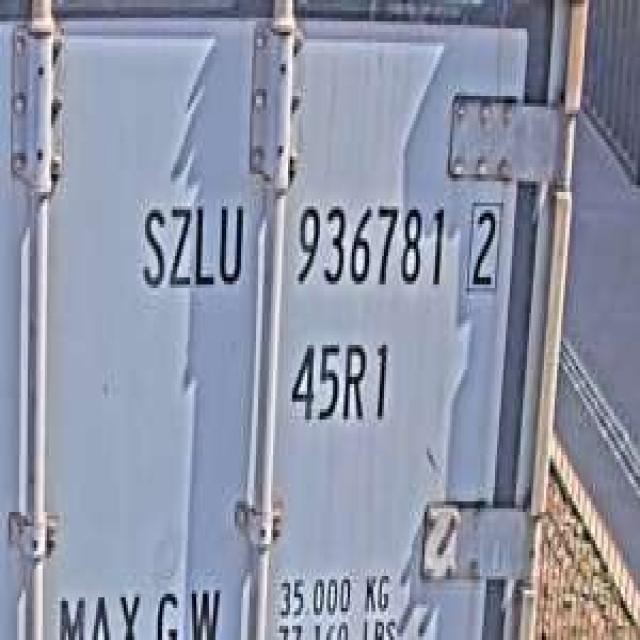dv: (463, 189, 506, 295)
owner: (134, 188, 248, 302)
serial: (290, 185, 448, 302)
size: (284, 327, 394, 434)
